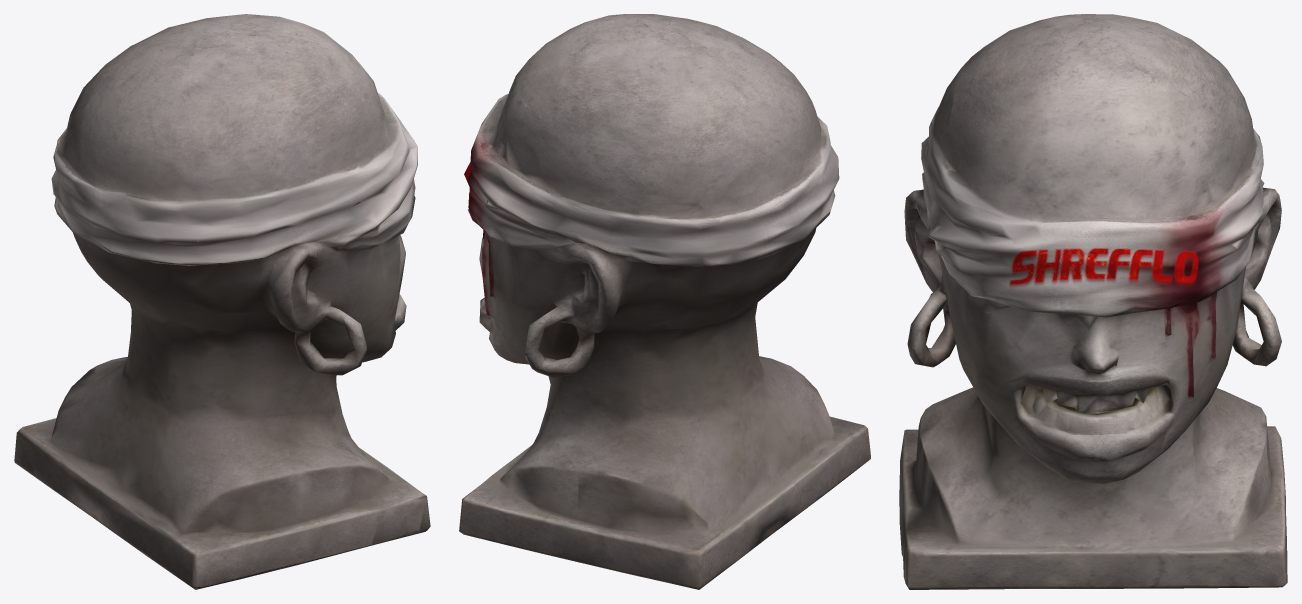
The model's file is SF-YoungThug_exported.glb.
The picture shows the model from 3 angles, left to right: view 1: azimuth 30°, elevation 25°; view 2: azimuth 150°, elevation 25°; view 3: azimuth 270°, elevation 25°; orthographic projection. The views are drawn at different scales.
Visible parts, largest first — view 1: vizcom_node_0; view 2: vizcom_node_0; view 3: vizcom_node_0.
Part boxes in pixels (bbox=[...]): vizcom_node_0: bbox=[14, 14, 430, 589]; vizcom_node_0: bbox=[459, 14, 870, 589]; vizcom_node_0: bbox=[899, 14, 1287, 589].
Bounding box in the file's own units: 0.3448 × 0.45 × 0.3175.
1 material, 1 textured.
